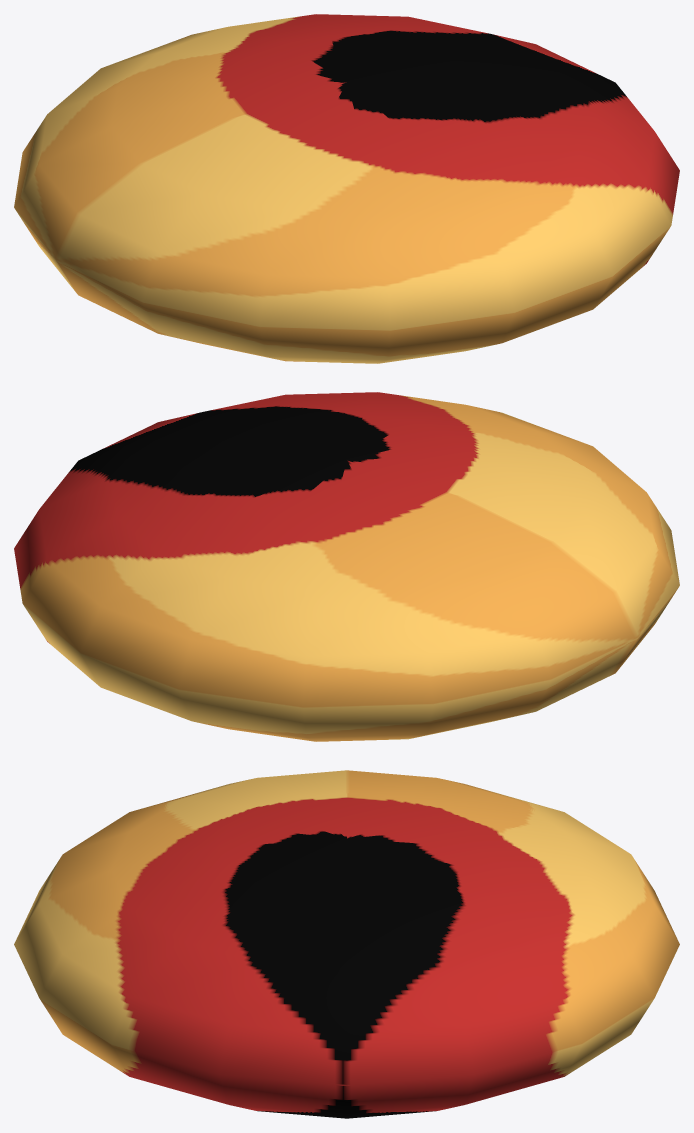
The model's file is model_test_sliced.obj.
3 views of the same model, one above another, from view 1: azimuth 30°, elevation 25°; view 2: azimuth 150°, elevation 25°; view 3: azimuth 270°, elevation 25° (orthographic).
Parts seen in each view (by area): view 1: test_asset; view 2: test_asset; view 3: test_asset.
Part boxes in pixels (<box>): test_asset: <box>14,14,679,363</box>; test_asset: <box>14,392,679,741</box>; test_asset: <box>14,770,679,1118</box>.
Size of the model in its own units: 1 by 0.35 by 1.
Materials: 1 (1 with a texture image).
